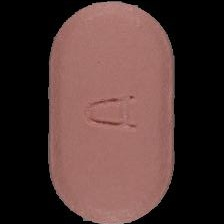10544-006: (0, 0, 224, 224)
